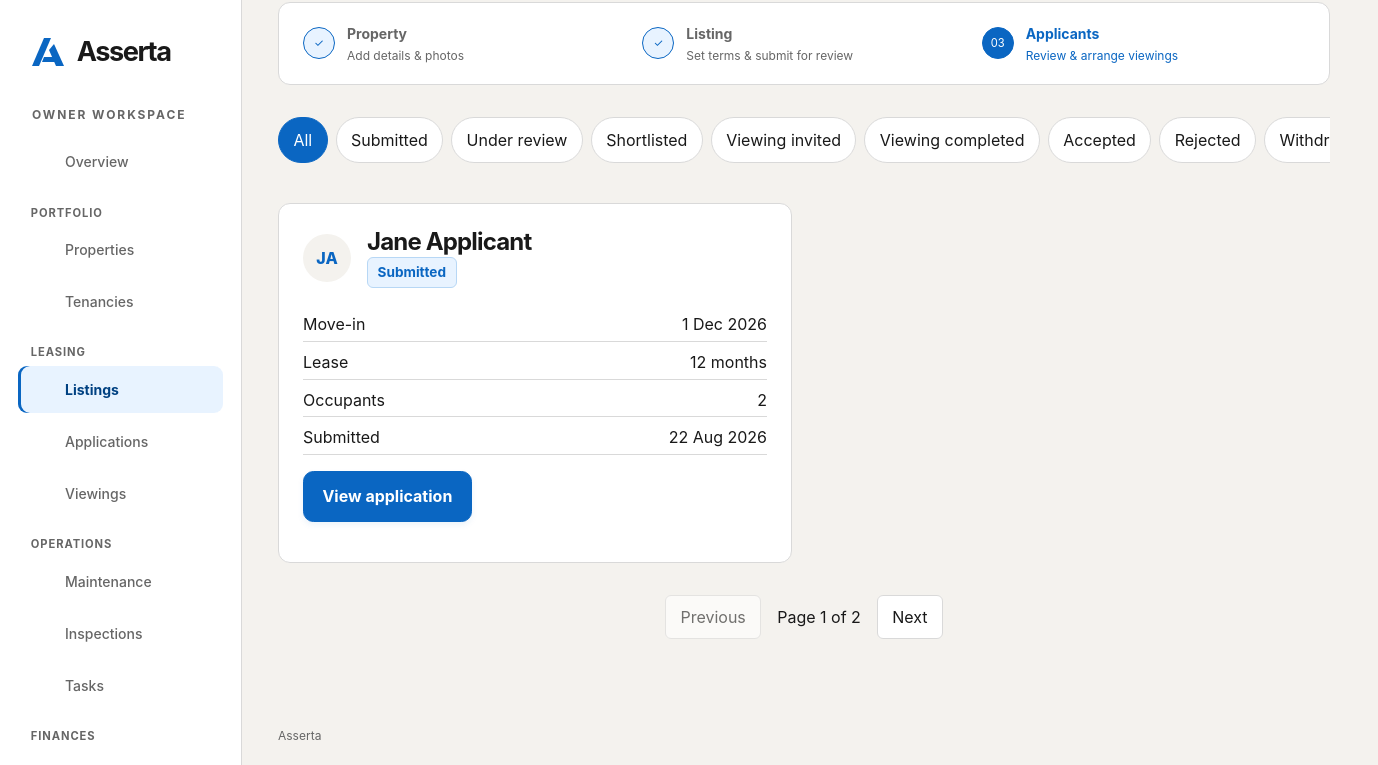
landlord applicant pipeline › supports pagination with mobile-safe vertical applicant cards
(page scrolled)
Expected: the heading "Jane Applicant" is shown, [367,228,531,257]
Expected: the list with class "applicant-card-grid" is shown, [278,203,792,563]
Click the button "Next" at (910, 617), box [877,595,943,639]
(page scrolled)
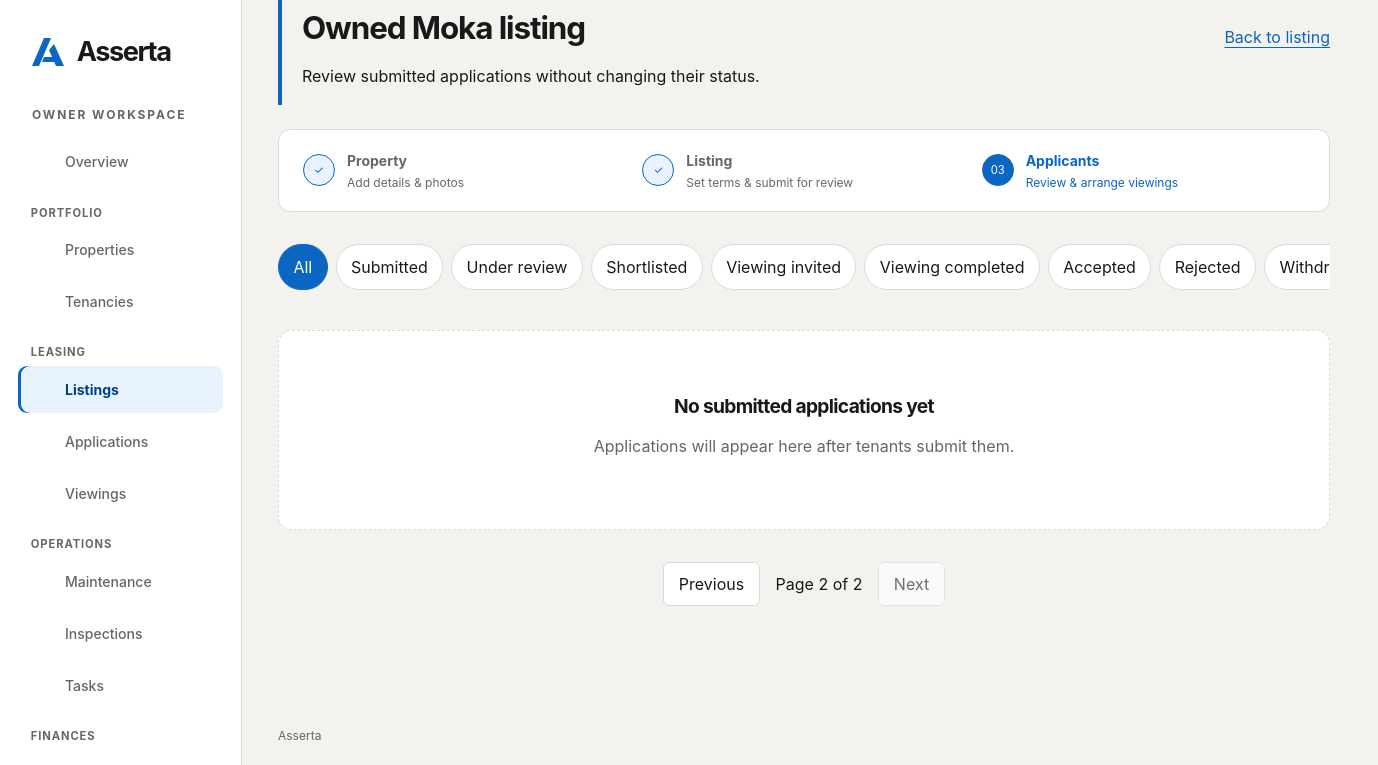
Now the heading "No submitted applications yet" is shown, box [674,394,934,418]
